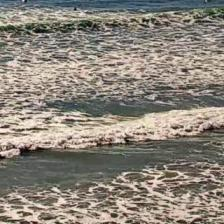surfer: (203, 0, 211, 3), (73, 6, 78, 10), (23, 0, 29, 2)
